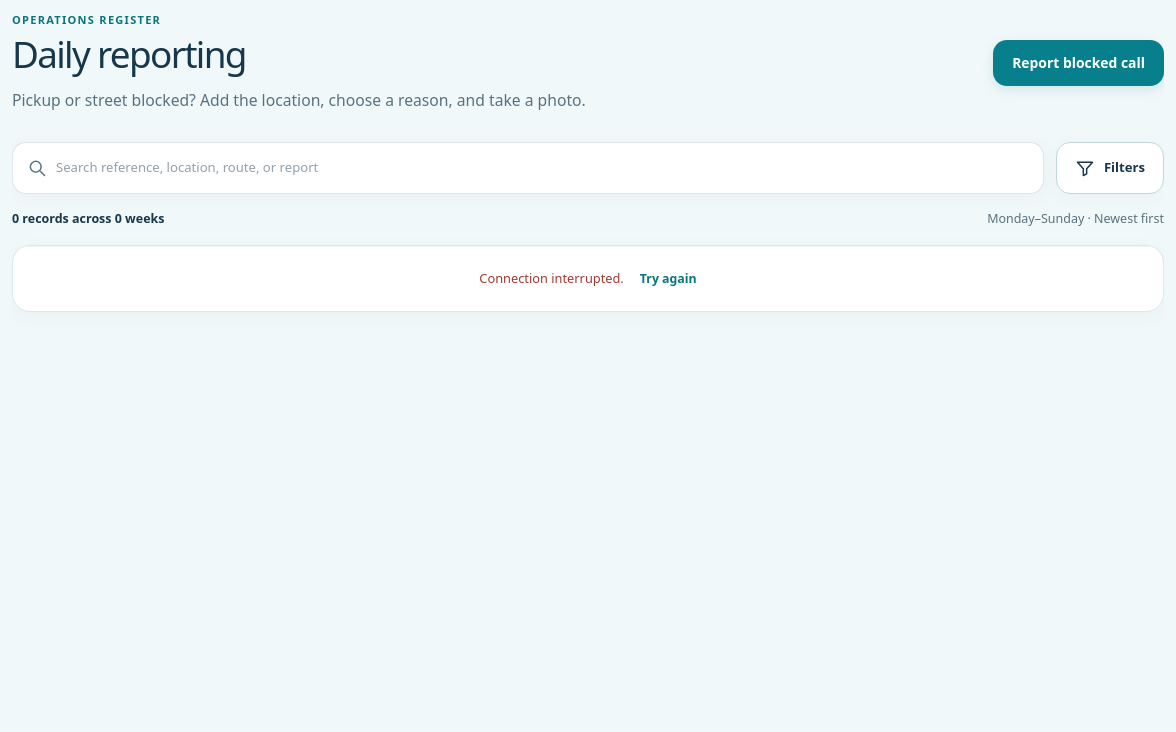
lazy register › retries a failed week summary before loading records
This screenshot has width=1176, height=732.
Expected: the text "Connection interrupted." is shown, [479,269,624,288]
Click the button "Try again": coordinates (668, 279) [640,263,697,295]
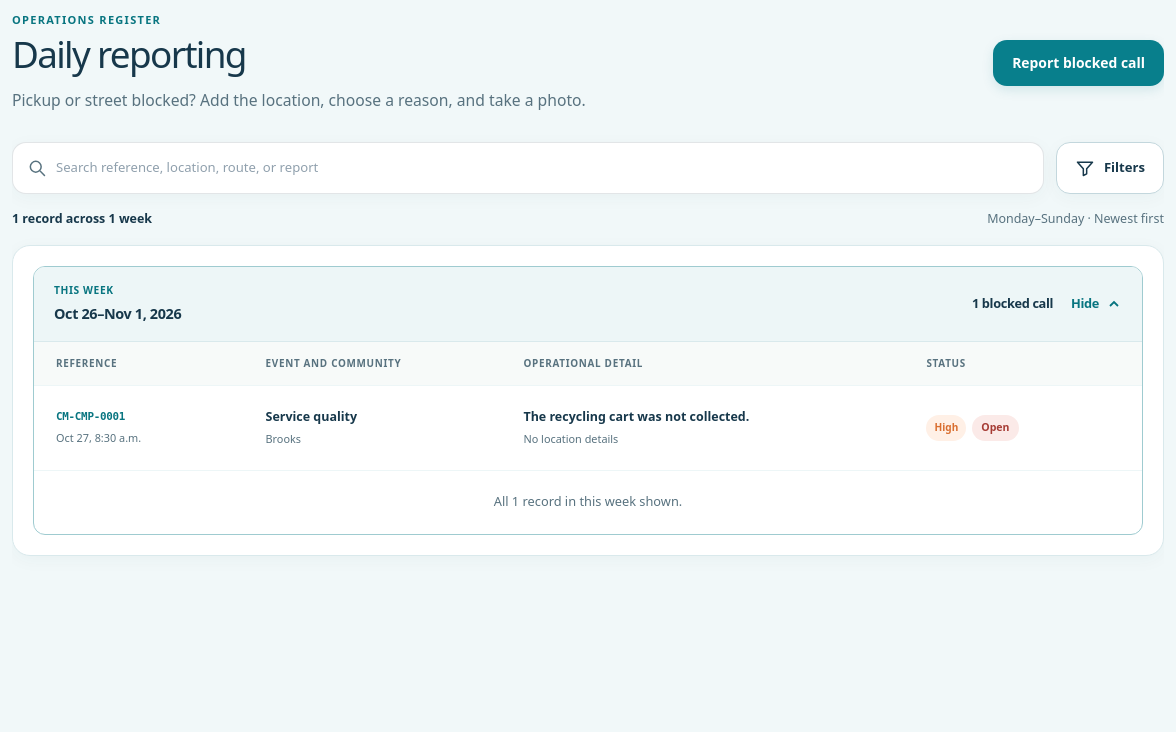
Result: the button "CM-CMP-0001" is shown at [34,386,1142,470]
Result: the message "Connection interrupted. Try again" is gone
